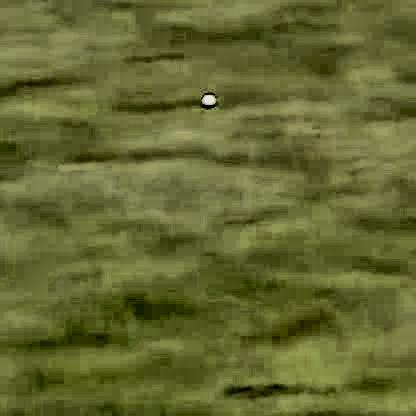golfball: (200, 90, 213, 106)
